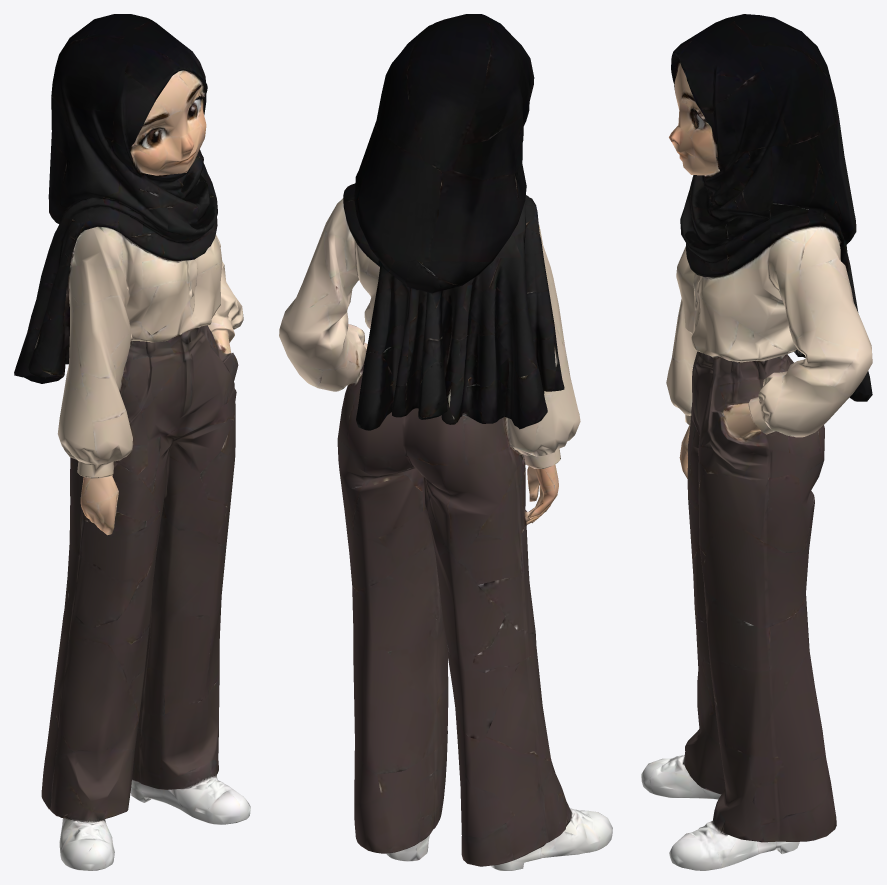
The model's file is casual_chic_hijab.glb.
3 renders of one model, left to right at view 1: azimuth 30°, elevation 25°; view 2: azimuth 150°, elevation 25°; view 3: azimuth 270°, elevation 25°, orthographic. The views are drawn at different scales.
Bounding box in the file's own units: 0.5759 × 1.9 × 0.4936.
Materials: 1 (1 with a texture image).
